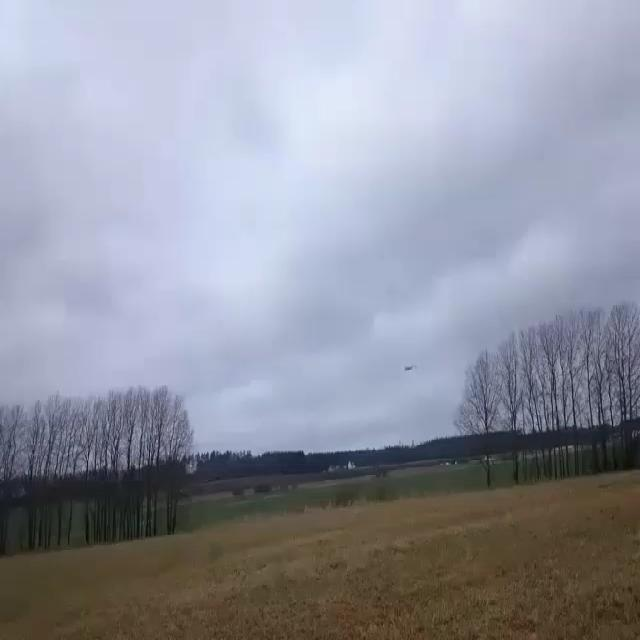Drone: (394, 357, 426, 380)
